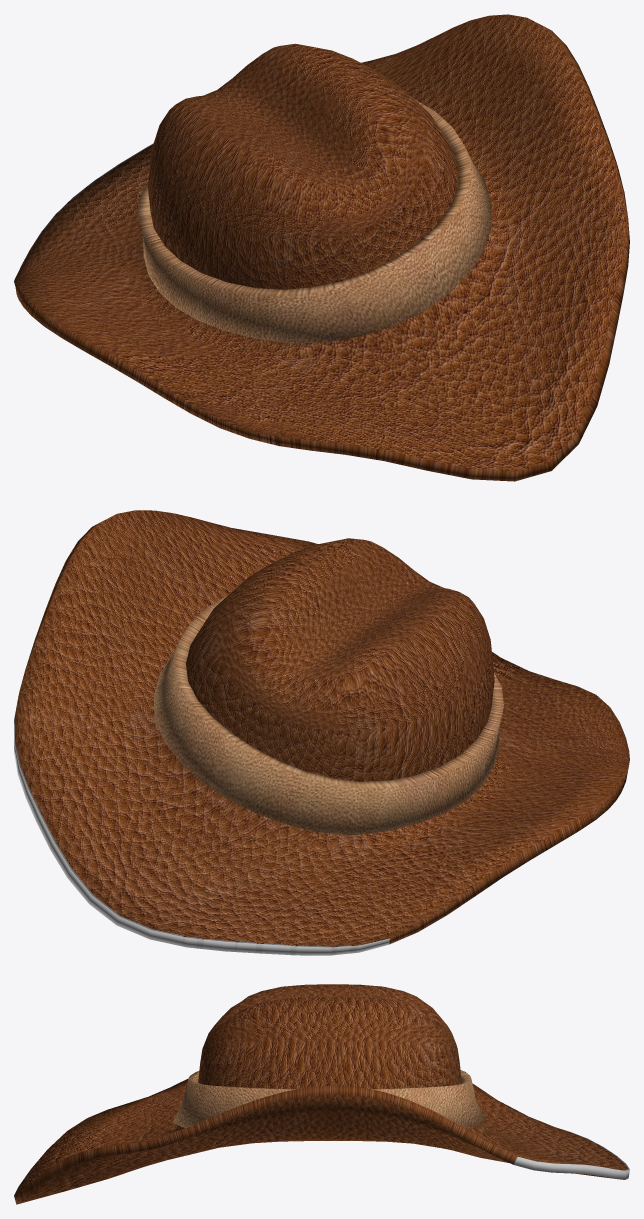
The model's file is Chapeu.fbx.
3 renders of one model, top to bottom at view 1: azimuth 30°, elevation 25°; view 2: azimuth 150°, elevation 25°; view 3: azimuth 270°, elevation 25°, orthographic. The views are drawn at different scales.
Parts seen in each view (by area): view 1: Chapeu; view 2: Chapeu; view 3: Chapeu.
Boxes of the visible parts, <box> form: Chapeu: <box>14,14,629,481</box>; Chapeu: <box>14,510,629,955</box>; Chapeu: <box>14,984,629,1204</box>.
Bounding box in the file's own units: 1078 × 529 × 1449.
2 materials, 2 textured.
